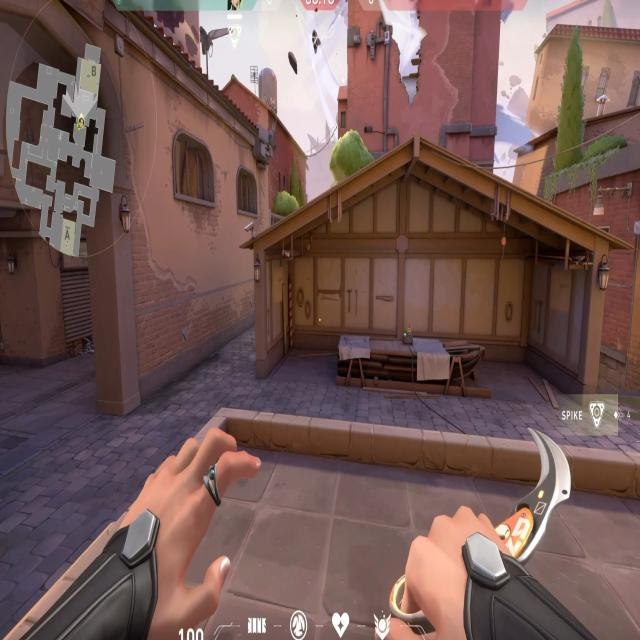B_Garage_Left: (251, 238, 354, 376)
B_Garage_Right: (472, 228, 610, 394)
Throwables: (171, 126, 218, 213), (234, 167, 260, 218)
